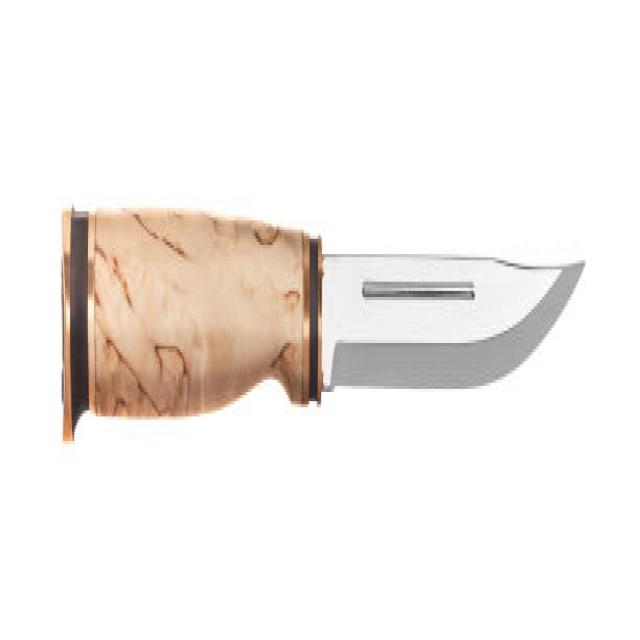knife: (57, 168, 592, 484)
